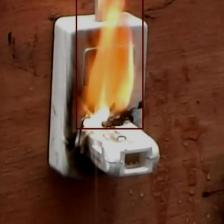fire: (75, 0, 143, 129)
